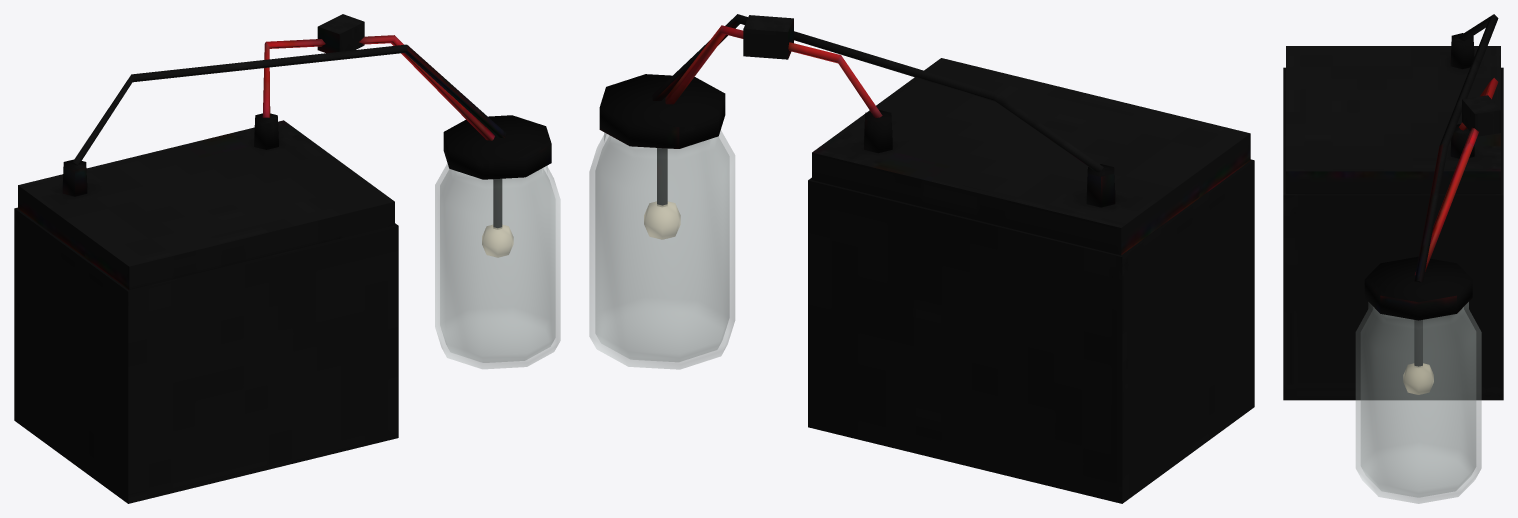
File: battery_lamp_lod1_web.glb
3 renders of one model, left to right at view 1: azimuth 30°, elevation 25°; view 2: azimuth 150°, elevation 25°; view 3: azimuth 270°, elevation 25°, orthographic. The views are drawn at different scales.
Parts seen in each view (by area): view 1: BatteryLamp_Body, Glass_Jar, Glass_Bulb; view 2: BatteryLamp_Body, Glass_Jar, Glass_Bulb; view 3: BatteryLamp_Body, Glass_Jar, Glass_Bulb.
Boxes of the visible parts, x1,y1,x2,y2 form: BatteryLamp_Body: (14,14,551,503); Glass_Jar: (435,163,560,368); Glass_Bulb: (482,225,513,257); BatteryLamp_Body: (599,14,1254,503); Glass_Jar: (589,130,734,369); Glass_Bulb: (644,201,680,239); BatteryLamp_Body: (1283,14,1503,400); Glass_Jar: (1356,302,1481,503); Glass_Bulb: (1403,363,1433,394).
Bounding box in the file's own units: 0.44 × 0.278 × 0.175.
Materials: 3 (1 with a texture image).
